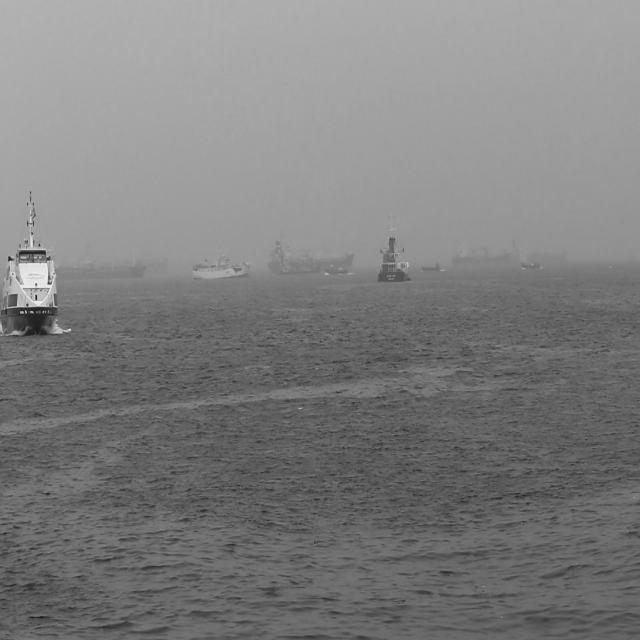ship: (0, 188, 58, 339), (47, 241, 148, 280), (267, 234, 356, 270), (378, 214, 408, 283), (446, 239, 520, 262), (192, 254, 252, 278), (526, 246, 570, 261), (520, 260, 541, 272), (420, 262, 442, 273), (325, 264, 348, 274)
